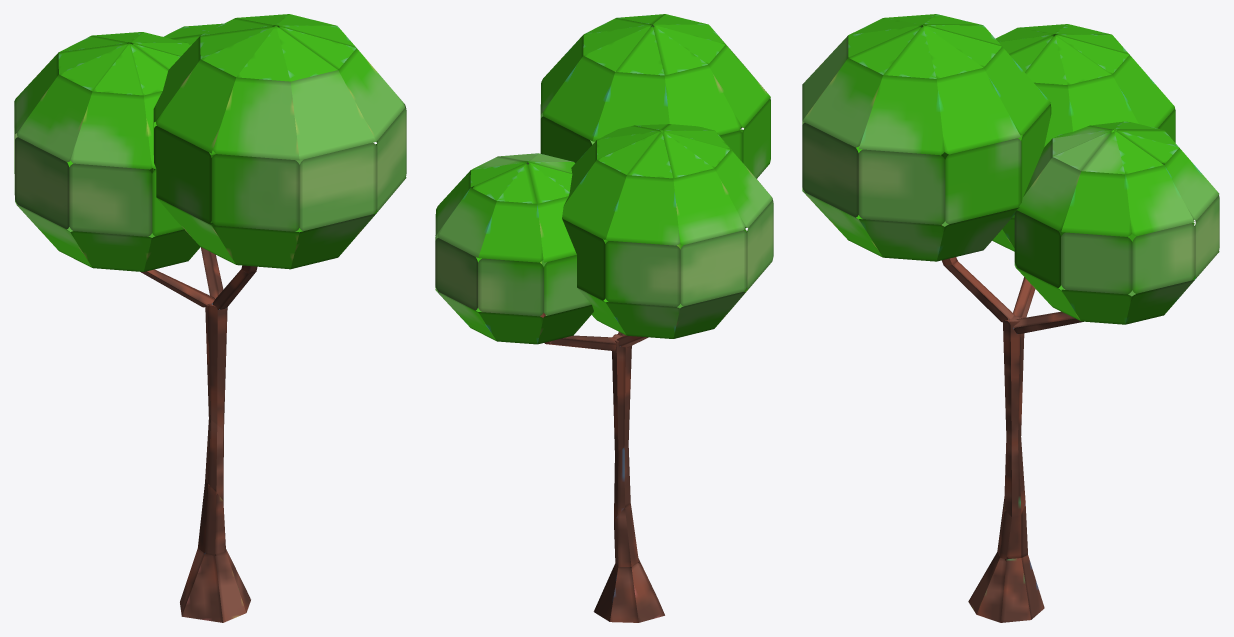
Rendered from Tree.fbx.
3 renders of one model, left to right at view 1: azimuth 30°, elevation 25°; view 2: azimuth 150°, elevation 25°; view 3: azimuth 270°, elevation 25°, orthographic. The views are drawn at different scales.
Visible parts, largest first — view 1: Leave_2, Leave_1, base, Branch_2, Branch, Branch_1, Leave; view 2: Leave_1, Leave_2, Leave, base, Branch_1; view 3: Leave_2, Leave, Leave_1, base, Branch, Branch_1.
Boxes of the visible parts, left/top/right/bottom form: Leave_2: left=153, top=14, right=406, bottom=269; Leave_1: left=14, top=32, right=215, bottom=271; base: left=180, top=297, right=250, bottom=622; Branch_2: left=141, top=269, right=214, bottom=307; Branch: left=212, top=265, right=257, bottom=309; Branch_1: left=201, top=247, right=223, bottom=297; Leave: left=148, top=23, right=223, bottom=173; Leave_1: left=562, top=124, right=773, bottom=338; Leave_2: left=540, top=14, right=770, bottom=178; Leave: left=435, top=153, right=608, bottom=344; base: left=593, top=334, right=664, bottom=622; Branch_1: left=540, top=312, right=616, bottom=351; Leave_2: left=802, top=14, right=1051, bottom=261; Leave: left=1014, top=121, right=1219, bottom=324; Leave_1: left=941, top=24, right=1175, bottom=251; base: left=968, top=315, right=1044, bottom=622; Branch: left=941, top=225, right=1014, bottom=322; Branch_1: left=1013, top=311, right=1083, bottom=334.
Bounding box in the file's own units: 150 × 278 × 178.
Materials: 2 (2 with a texture image).
